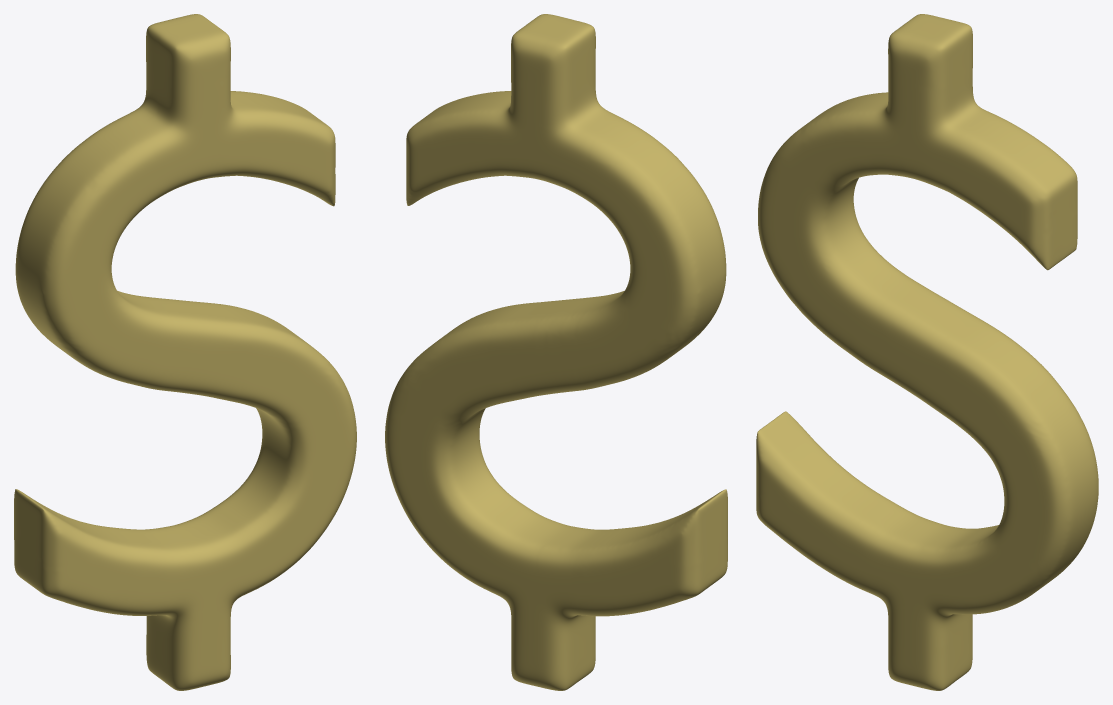
The model's file is uploads_files_3145136_Dollar+Sign.fbx.
3 views of the same model, side by side, from view 1: azimuth 30°, elevation 25°; view 2: azimuth 150°, elevation 25°; view 3: azimuth 330°, elevation 25° (orthographic).
Visible parts, largest first — view 1: $; view 2: $; view 3: $.
Part boxes in pixels (<box>): $: <box>14,14,356,690</box>; $: <box>385,14,727,690</box>; $: <box>756,14,1098,690</box>.
Bounding box in the file's own units: 410 × 807 × 94.04.
